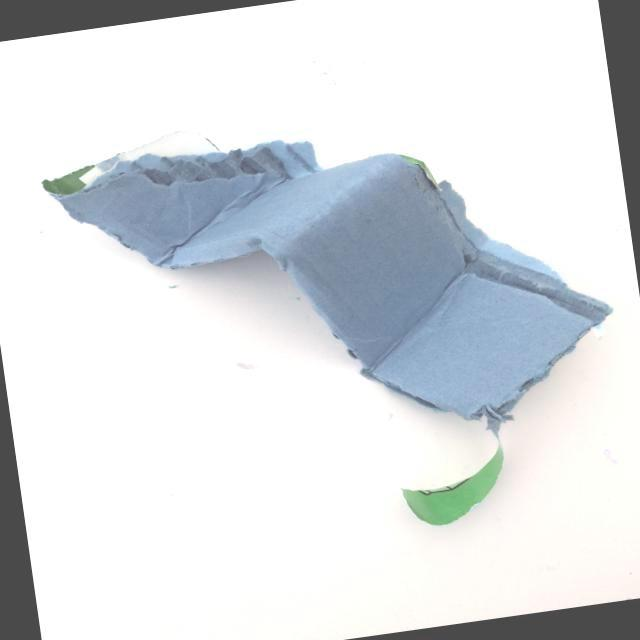cardboard: (14, 57, 640, 587)
